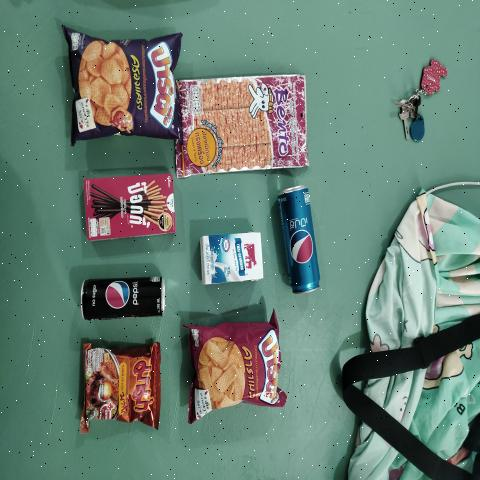bento_red: (182, 79, 306, 166), (278, 183, 320, 296)
mama: (83, 349, 154, 418)
party_purple: (72, 40, 174, 132)
party_red: (196, 326, 277, 403)
pepsi_black: (76, 276, 165, 319)
pokki: (84, 178, 176, 236)
thai_denmark: (202, 236, 264, 283)
